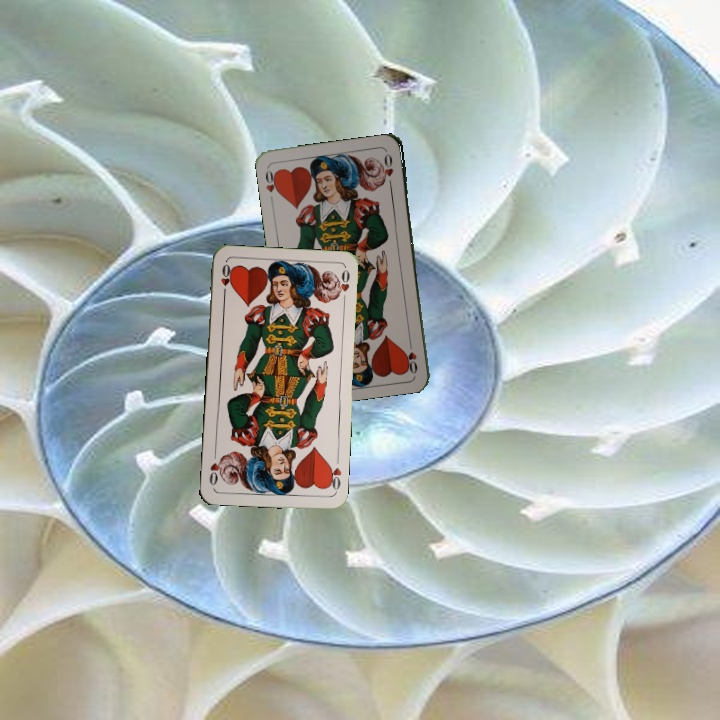HO: (261, 164, 282, 205), (324, 460, 344, 495), (217, 260, 234, 300), (405, 336, 420, 376)
